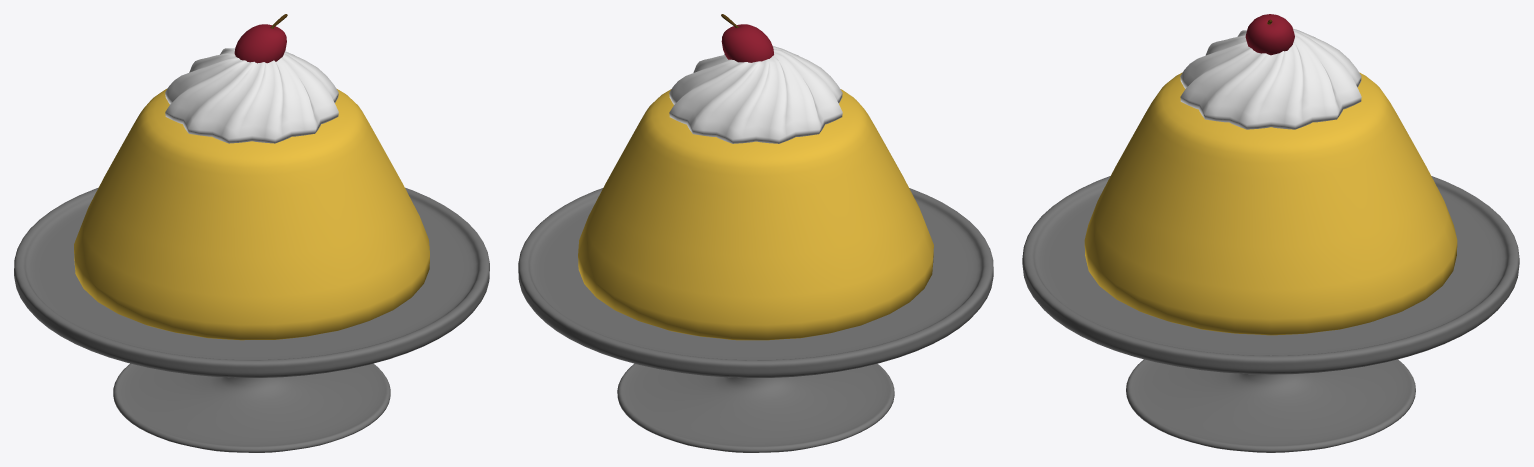
The model's file is flan.glb.
3 views of the same model, side by side, from view 1: azimuth 30°, elevation 25°; view 2: azimuth 150°, elevation 25°; view 3: azimuth 270°, elevation 25° (orthographic). The views are drawn at different scales.
Parts seen in each view (by area): view 1: Cylinder, Cylinder.001, Circle, Circle.001; view 2: Cylinder, Cylinder.001, Circle, Circle.001; view 3: Cylinder, Cylinder.001, Circle, Circle.001.
Part boxes in pixels (bbox=[...]): Cylinder: bbox=[74, 88, 429, 340]; Cylinder.001: bbox=[14, 187, 489, 452]; Circle: bbox=[165, 48, 338, 143]; Circle.001: bbox=[234, 14, 287, 63]; Cylinder: bbox=[578, 89, 933, 340]; Cylinder.001: bbox=[518, 188, 993, 452]; Circle: bbox=[669, 46, 842, 143]; Circle.001: bbox=[721, 14, 773, 62]; Cylinder: bbox=[1084, 72, 1457, 335]; Cylinder.001: bbox=[1022, 176, 1519, 452]; Circle: bbox=[1180, 28, 1361, 129]; Circle.001: bbox=[1245, 14, 1294, 55].
Size of the model in its own units: 2.16 by 1.9 by 2.16.
